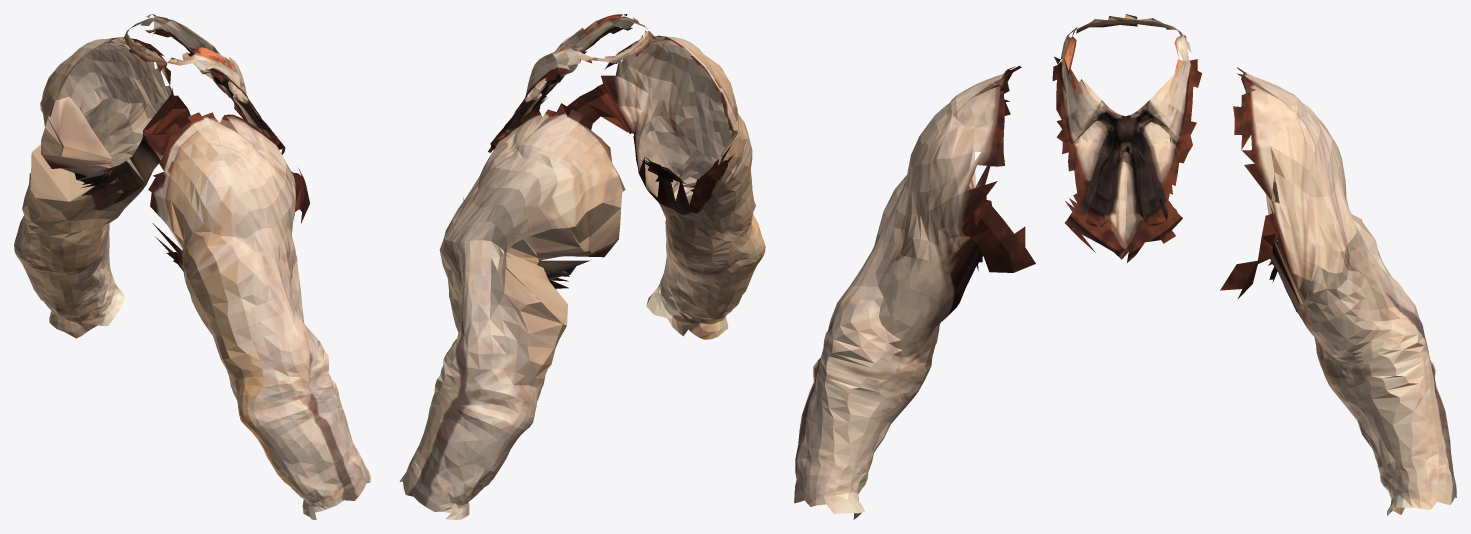
The model's file is bold_cowboy_under_shirt.glb.
3 renders of one model, left to right at view 1: azimuth 30°, elevation 25°; view 2: azimuth 150°, elevation 25°; view 3: azimuth 270°, elevation 25°, orthographic. The views are drawn at different scales.
Parts seen in each view (by area): view 1: shirt; view 2: shirt; view 3: shirt.
Part boxes in pixels (x1,y1,x2,y2): shirt: (14,14,370,519); shirt: (399,14,765,519); shirt: (794,14,1456,519).
Size of the model in its own units: 0.1718 by 0.381 by 0.4853.
Materials: 1 (1 with a texture image).
